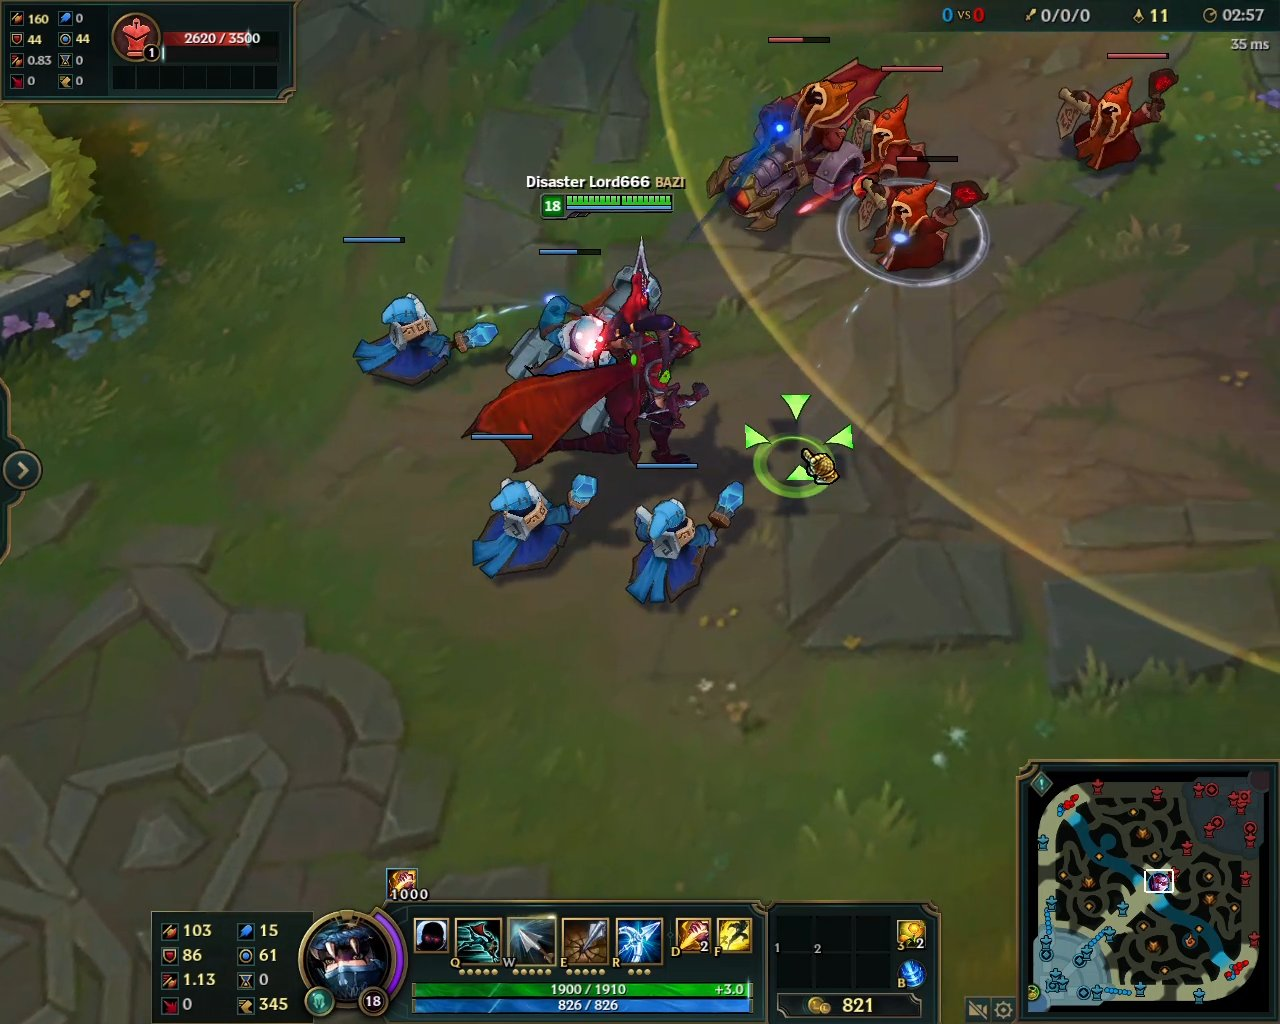EnemyMinion: (712, 36, 884, 232), (1047, 45, 1187, 173), (847, 154, 986, 276)
Vayne: (453, 230, 714, 482)
